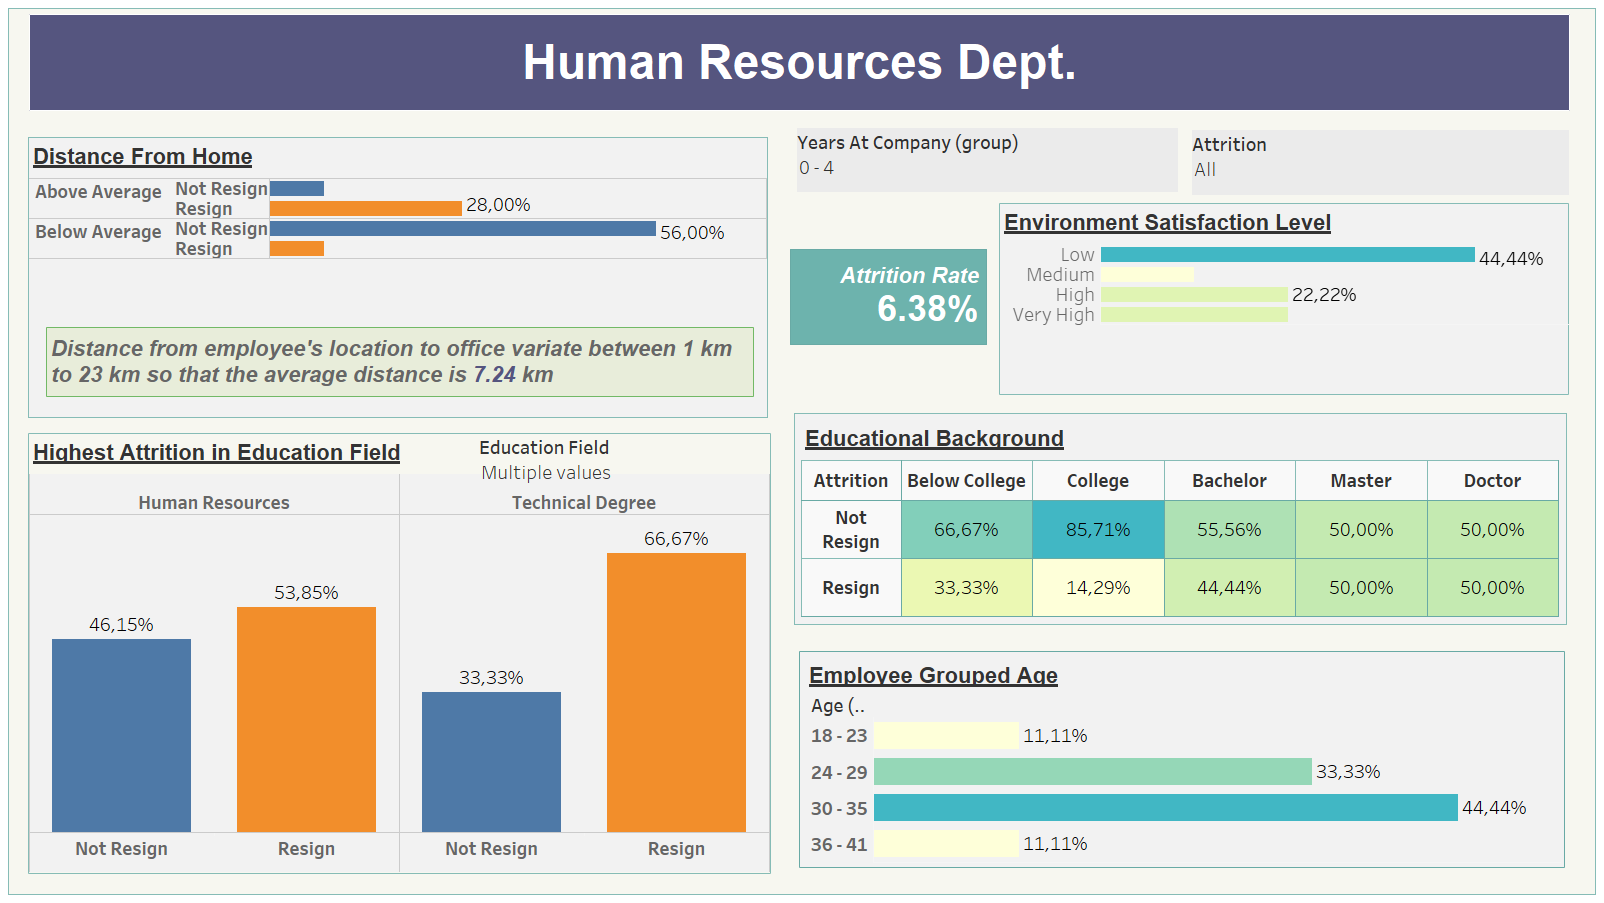

What the dashboard file says about the page in this screenshot:
{"tool":"tableau","page":{"name":"Dashboard_HR","canvas":[1000,1000],"units":"permille","ordinal":0},"visuals":[{"type":"text","box":[18.3,15,960.3,108]},{"type":"filter","title":"HR_Edu","param":"[federated.0cw0afy1n3x3ps108bnmo1yaweov].[Years At Company (group)]","box":[497,141.9,237.2,71]},{"type":"filter","title":"HR_distance","param":"[federated.0cw0afy1n3x3ps108bnmo1yaweov].[none:Attrition:nk]","box":[742.9,143.6,235.5,72.6]},{"type":"worksheet","title":"HR_distance","mark":"Automatic","rows":["Attrition"],"cols":["EmployeeCount"],"box":[17.3,152,461.5,310.8]},{"type":"worksheet","title":"HR_satisfaction","mark":"Automatic","rows":["EnvironmentSatisfaction"],"cols":["EmployeeCount"],"box":[622.5,224.7,355.8,212.8]},{"type":"text","box":[492.6,275.3,122.9,106.4]},{"type":"text","box":[26,358.1,446.8,86.2]},{"type":"worksheet","title":"HR_Edu","mark":"Square","rows":["Attrition"],"cols":["Education"],"box":[495.2,457.8,481.4,234.8]},{"type":"worksheet","title":"HR_field","mark":"Automatic","cols":["EducationField","Attrition"],"box":[17.3,479.7,463.2,488.2]},{"type":"filter","title":"HR_field","param":"[federated.0cw0afy1n3x3ps108bnmo1yaweov].[none:EducationField:nk]","box":[298.7,479.7,179.2,60.8]},{"type":"worksheet","title":"HR_age","mark":"Automatic","box":[497.8,721.3,477.9,239.9]}]}

Visuals, with their boxes on the dashboard's canvas, which has no fixed pixel size, in thousandths of its width and height (x1, y1, x2, y2). These are canvas units, not pixel positions in the 1604x903 screenshot, which may show the page scaled, cropped or inside an application window:
text: [x1=18, y1=15, x2=979, y2=123]
"HR_Edu" filter: [x1=497, y1=142, x2=734, y2=213]
"HR_distance" filter: [x1=743, y1=144, x2=978, y2=216]
"HR_distance" worksheet: [x1=17, y1=152, x2=479, y2=463]
"HR_satisfaction" worksheet: [x1=622, y1=225, x2=978, y2=438]
text: [x1=493, y1=275, x2=616, y2=382]
text: [x1=26, y1=358, x2=473, y2=444]
"HR_Edu" worksheet (Square marks): [x1=495, y1=458, x2=977, y2=693]
"HR_field" worksheet: [x1=17, y1=480, x2=480, y2=968]
"HR_field" filter: [x1=299, y1=480, x2=478, y2=540]
"HR_age" worksheet: [x1=498, y1=721, x2=976, y2=961]
